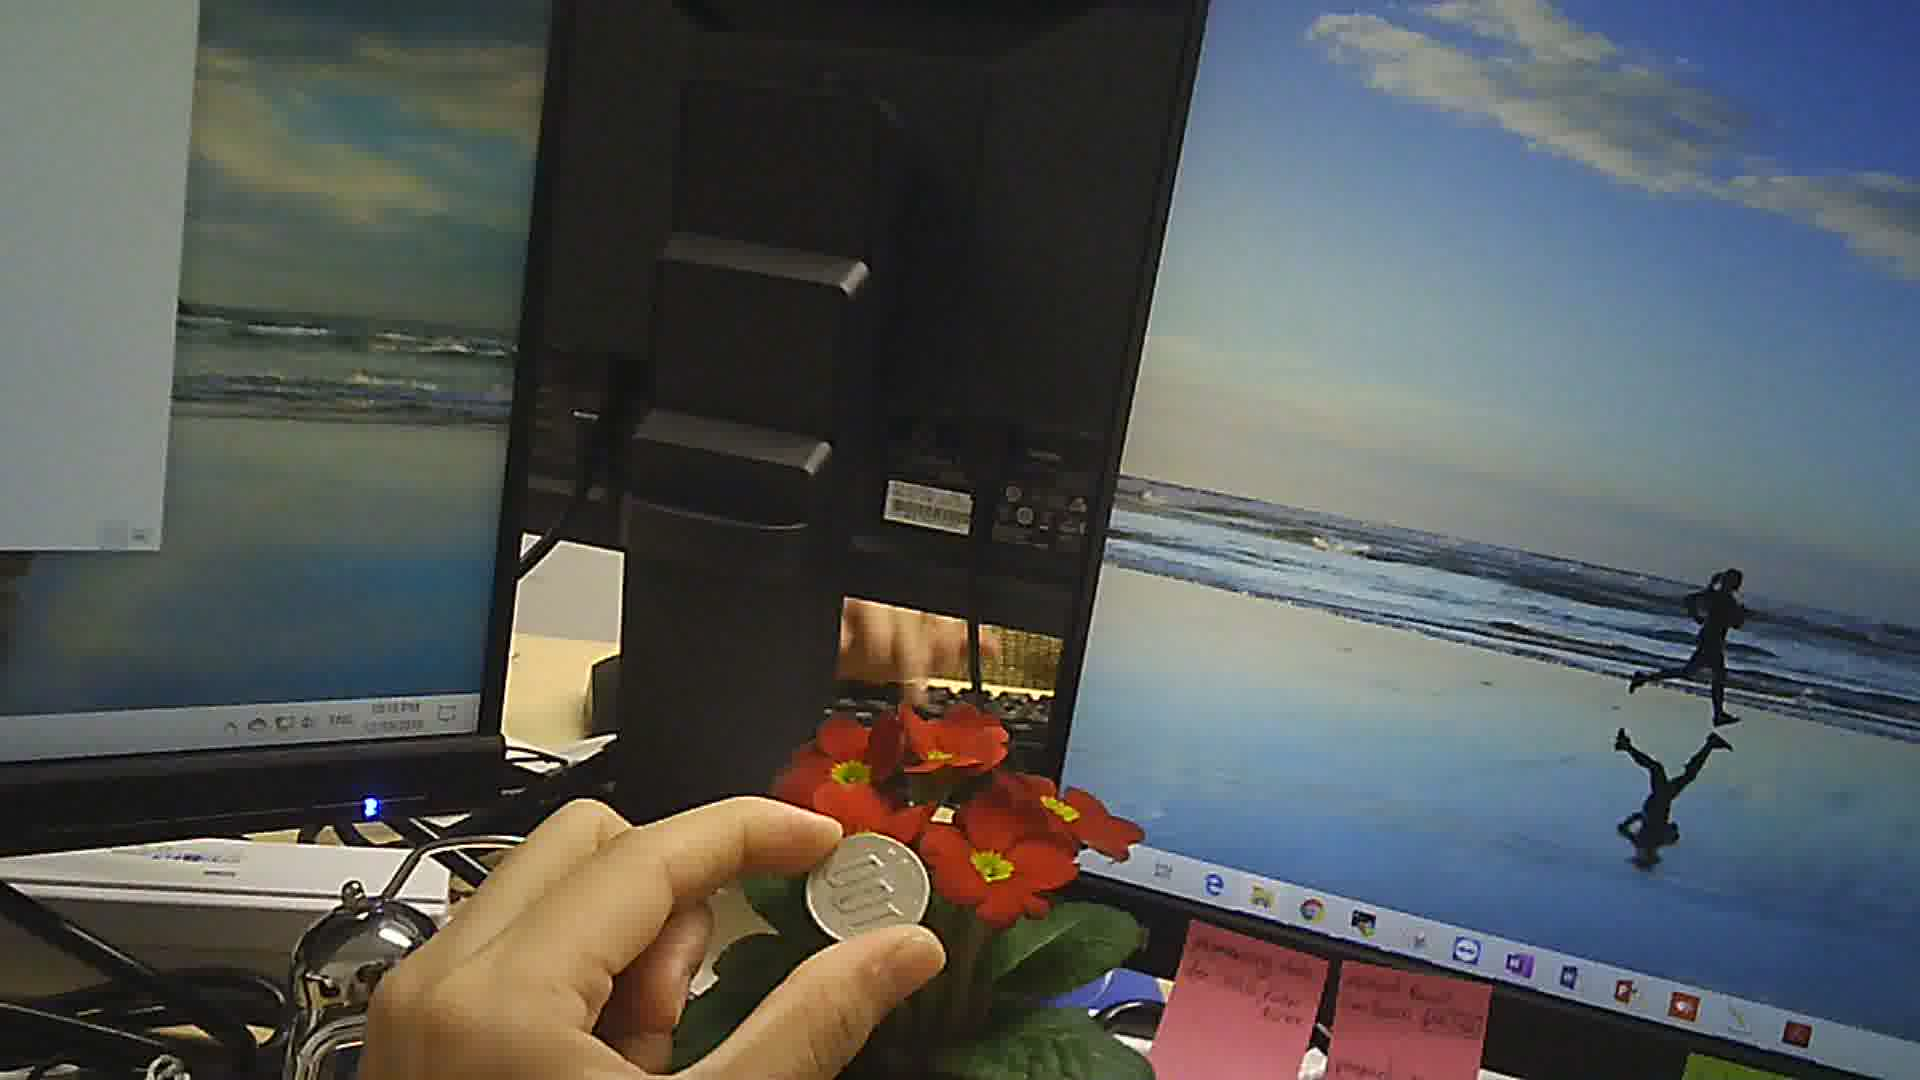100 Yen: (804, 819, 942, 949)
